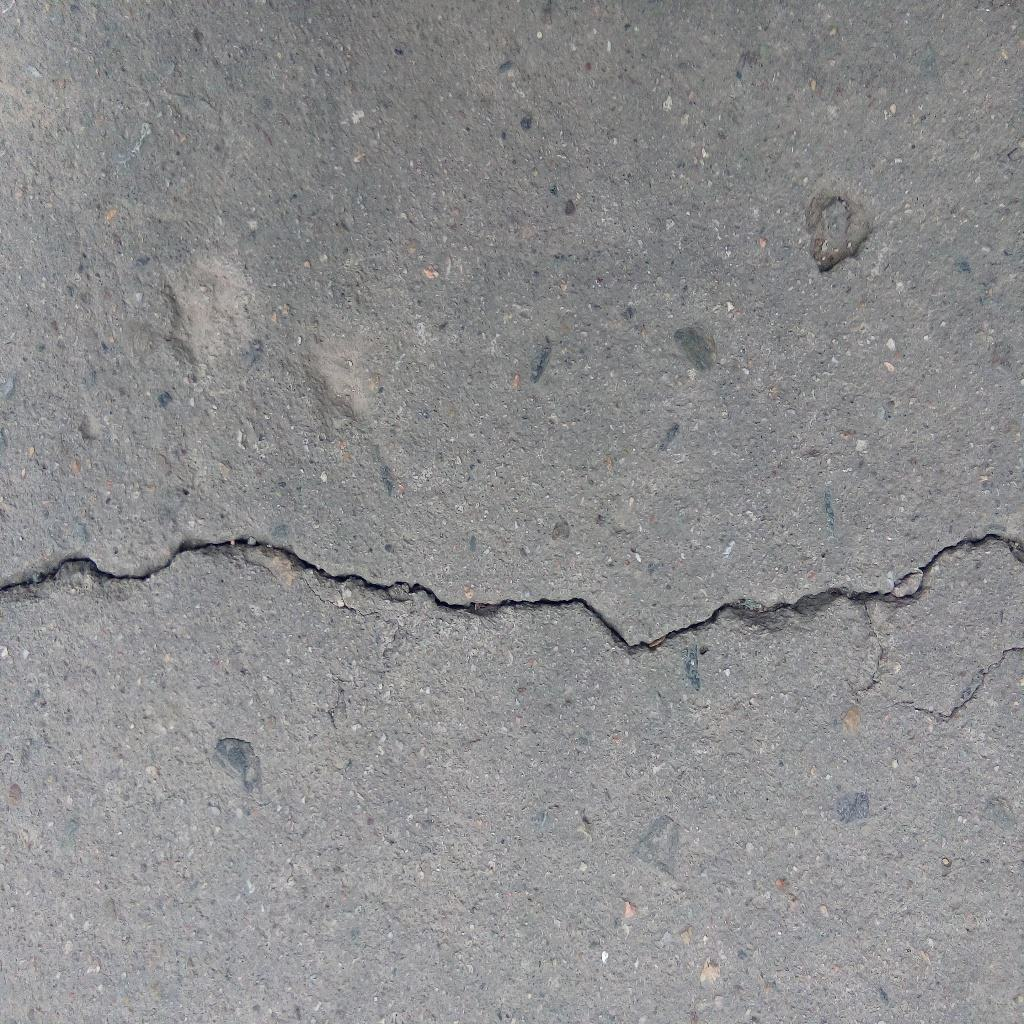Crack: (1, 533, 1024, 655), (884, 647, 1024, 721)
Spalling: (803, 193, 874, 274)
